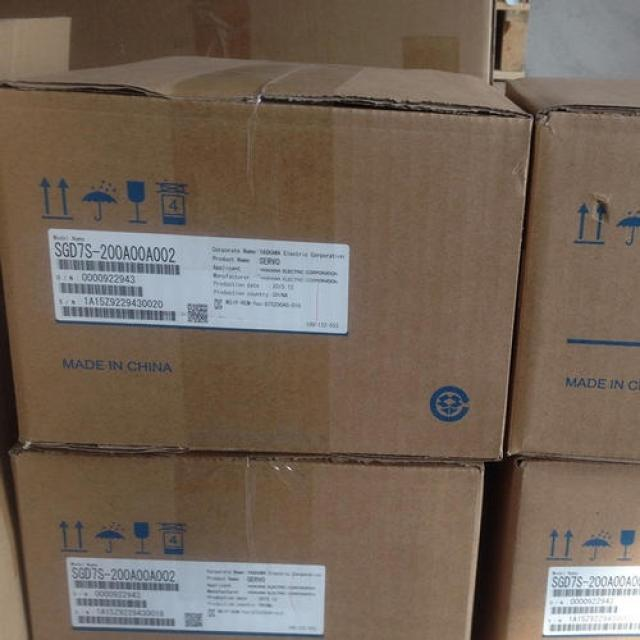box: (0, 55, 530, 461), (10, 447, 484, 639), (504, 77, 639, 463), (0, 1, 493, 88), (477, 464, 639, 639), (0, 8, 72, 81)
